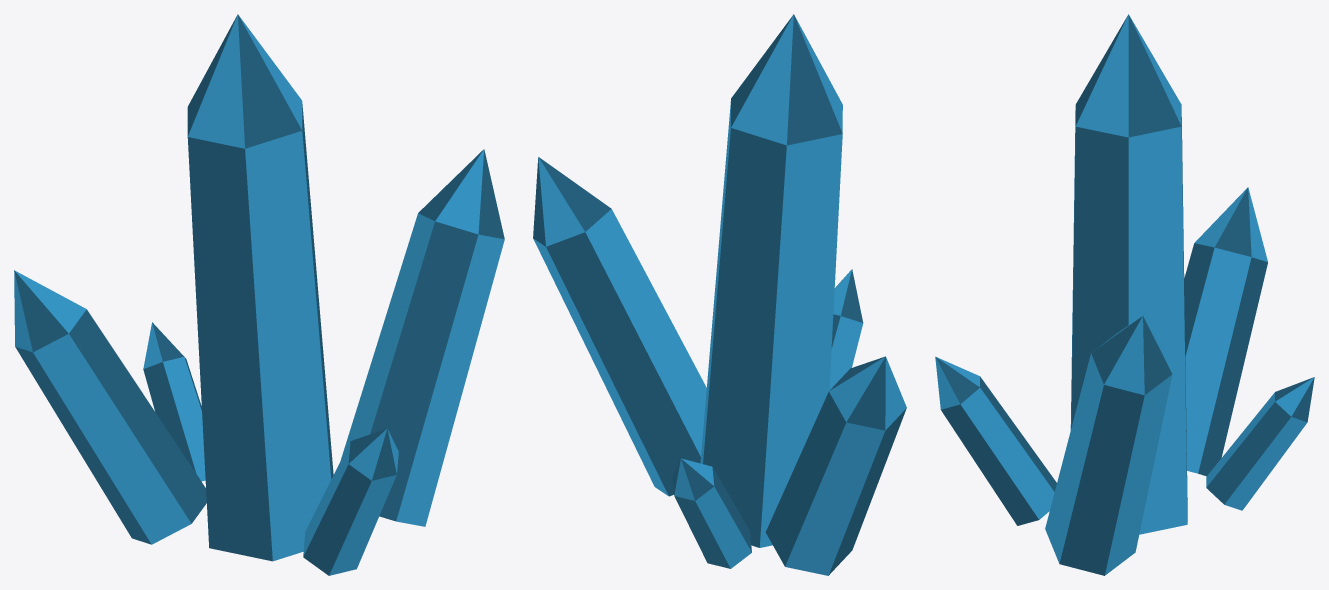
File: dk_crystal_dk.glb
3 views of the same model, side by side, from view 1: azimuth 30°, elevation 25°; view 2: azimuth 150°, elevation 25°; view 3: azimuth 270°, elevation 25° (orthographic). The views are drawn at different scales.
Parts seen in each view (by area): view 1: dk_crystal_dk; view 2: dk_crystal_dk; view 3: dk_crystal_dk.
Part boxes in pixels (<box>): dk_crystal_dk: <box>14,14,504,575</box>; dk_crystal_dk: <box>533,14,906,575</box>; dk_crystal_dk: <box>935,14,1314,575</box>.
Bounding box in the file's own units: 2.1 × 2.56 × 1.79.
Materials: 1 (1 with a texture image).
